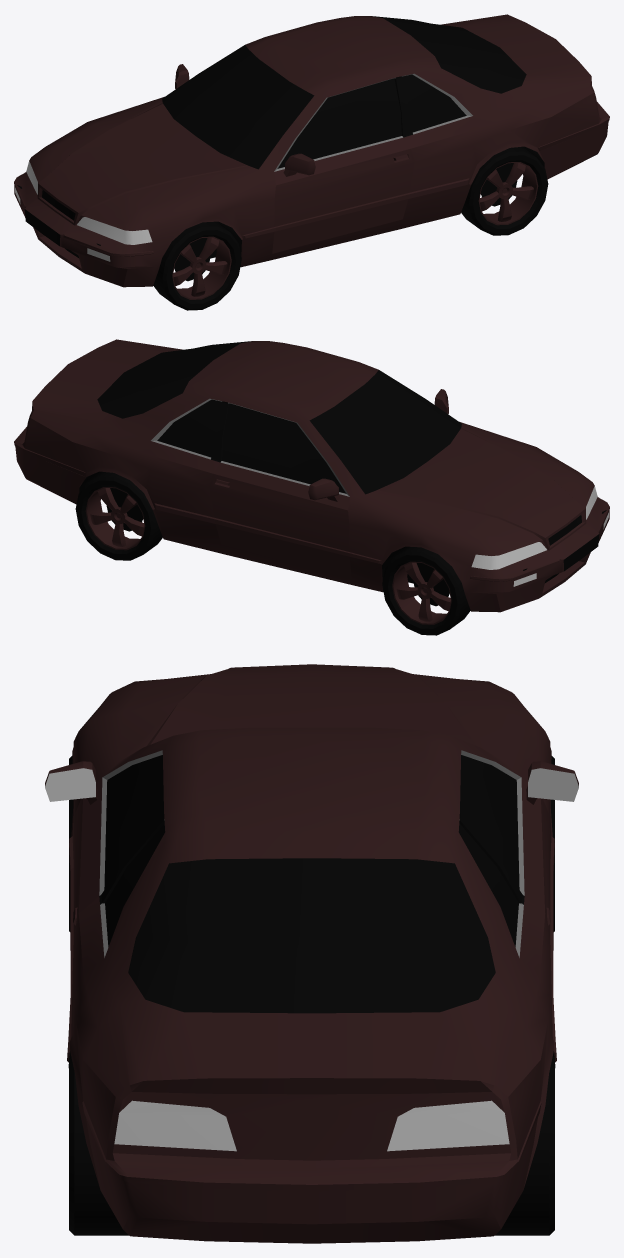
Rendered from Car_Prop.fbx.
3 views of the same model, one above another, from view 1: azimuth 30°, elevation 25°; view 2: azimuth 150°, elevation 25°; view 3: azimuth 270°, elevation 25° (orthographic). The views are drawn at different scales.
Parts seen in each view (by area): view 1: Car_Object; view 2: Car_Object; view 3: Car_Object.
Part boxes in pixels (box(x1,y1,x2,y2)): Car_Object: box(14, 14, 609, 310); Car_Object: box(14, 339, 609, 635); Car_Object: box(45, 664, 578, 1243).
Bounding box in the file's own units: 18.35 × 5.66 × 8.
